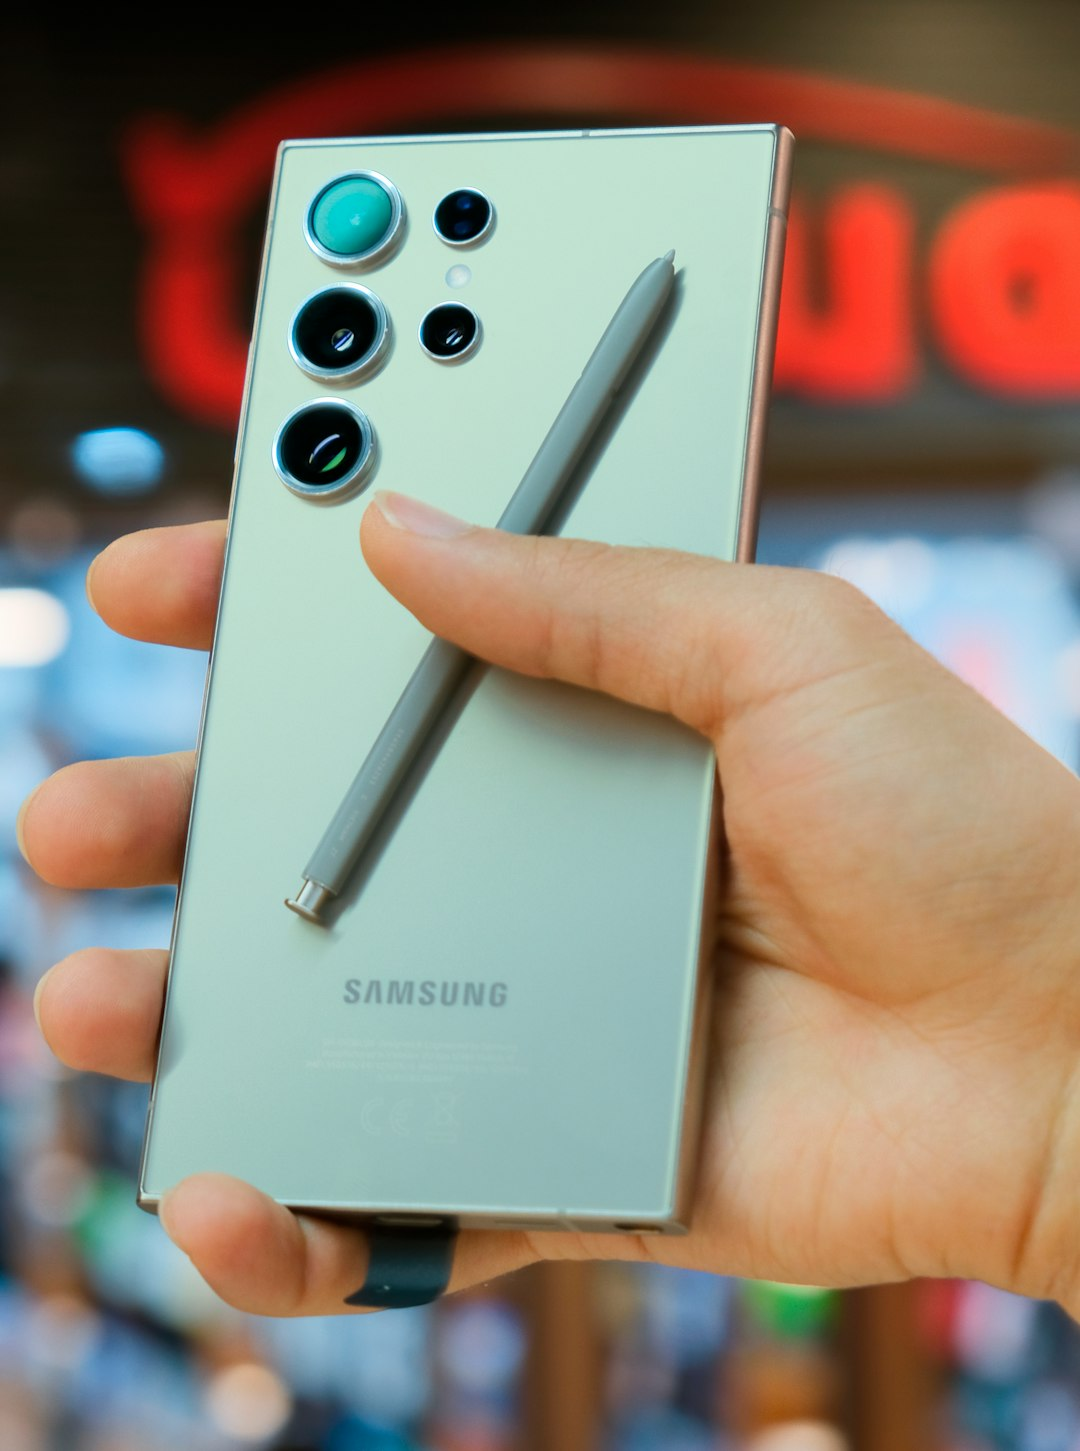phone: (138, 116, 798, 1240)
